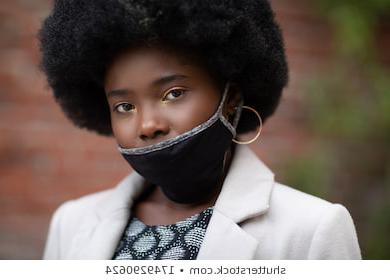mask_weared_incorrect: (107, 77, 205, 168)
